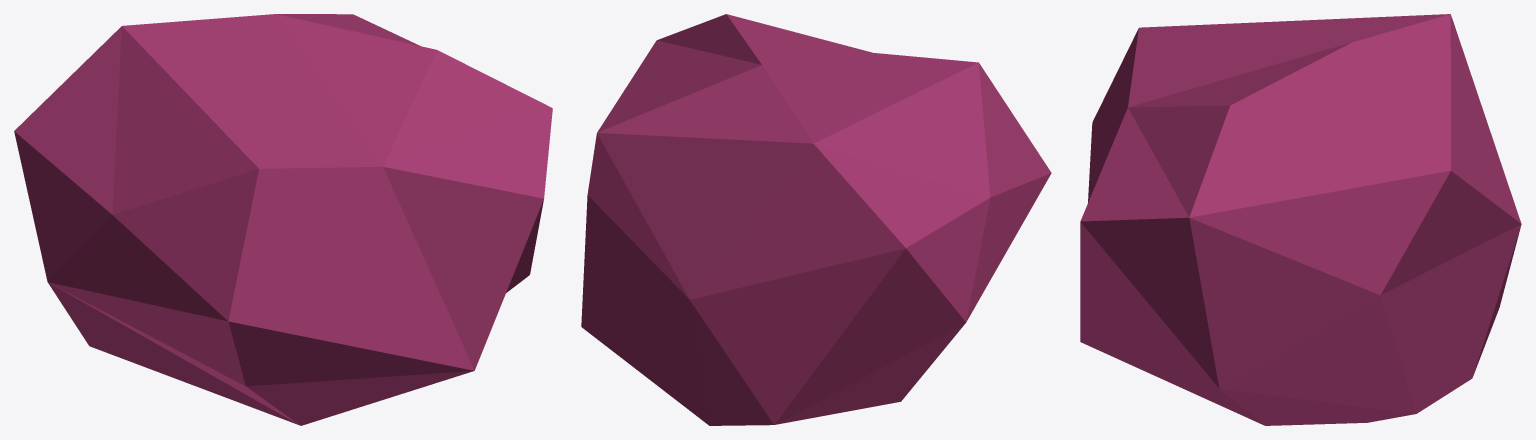
The model's file is stone.fbx.
3 views of the same model, side by side, from view 1: azimuth 30°, elevation 25°; view 2: azimuth 150°, elevation 25°; view 3: azimuth 270°, elevation 25° (orthographic). The views are drawn at different scales.
Visible parts, largest first — view 1: Куб; view 2: Куб; view 3: Куб.
Part boxes in pixels (<box>): Куб: <box>14,14,552,425</box>; Куб: <box>581,14,1051,425</box>; Куб: <box>1080,14,1521,425</box>.
Size of the model in its own units: 10.67 by 8.84 by 9.82.
